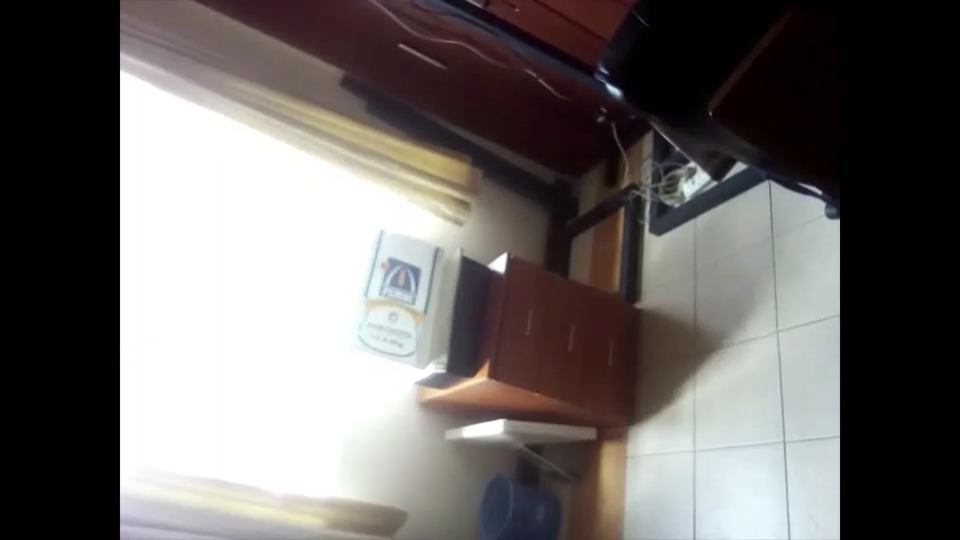wheat_flour_blue_label: (354, 230, 463, 362)
